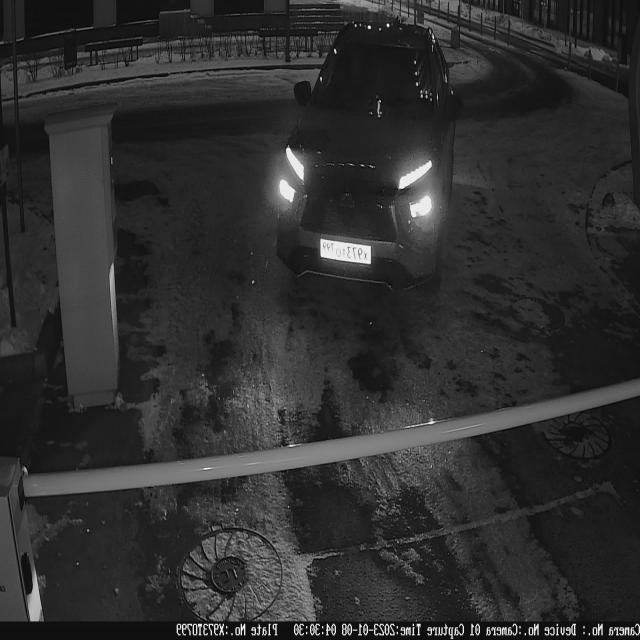car-plate-numbers: (317, 237, 375, 268)
